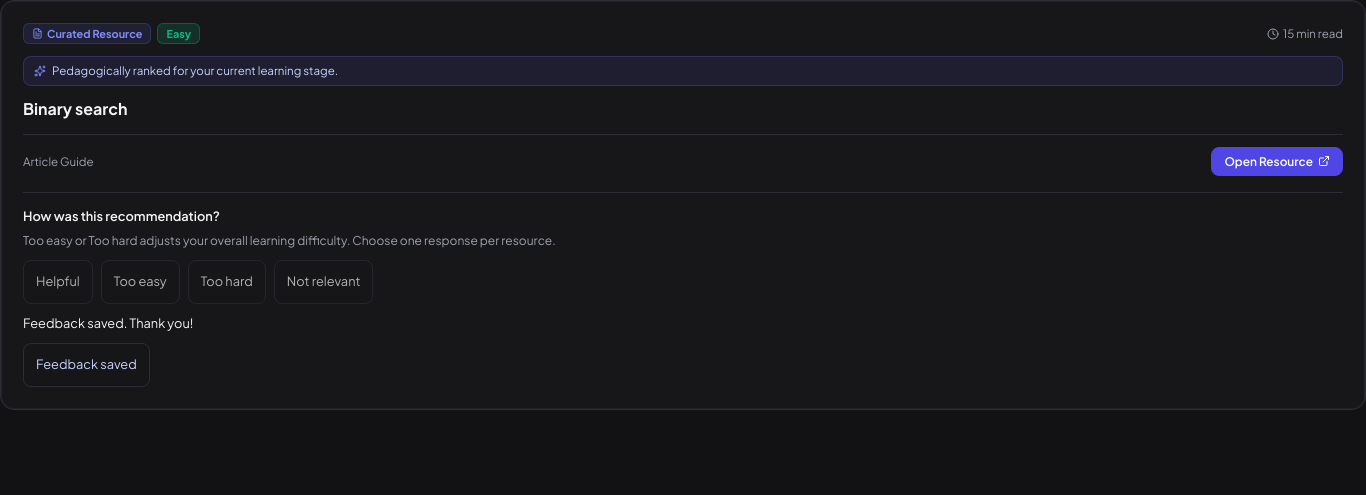
Scenario: Thanks tooltip › opens on hover, remains hoverable, and opens on tap without submitting feedback
Hover over the element showing "Feedback saved" at (86, 365), box [23,343,150,387]
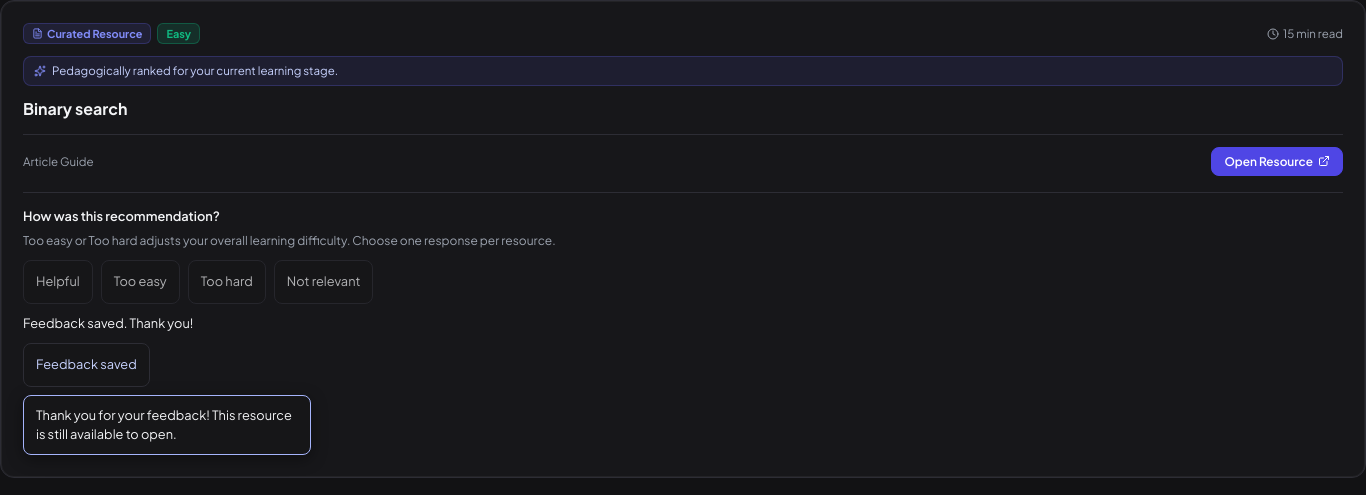
Hover over the tooltip at (167, 425), box [23,395,311,456]
expect the tooltip is shown: met, box [23,395,311,456]
Move the pointer off the element that starts with "Feedback saved", box [23,343,311,456]
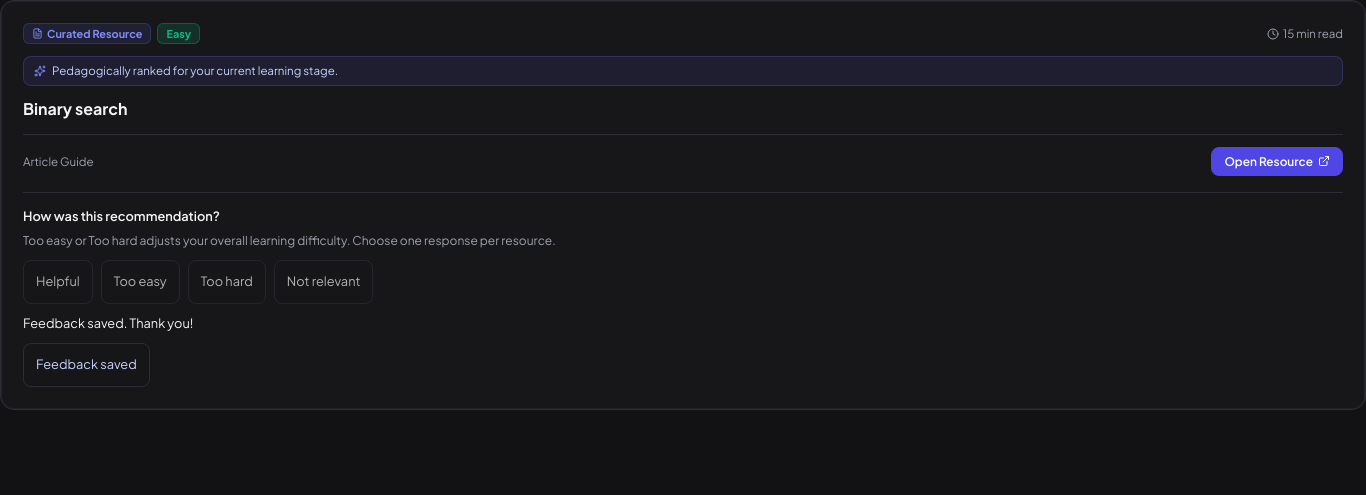
expect the tooltip "Thank you for your feedback! This resource is still available to open." is gone: met
Click the button "Feedback saved" at (86, 365), box [23,343,150,387]
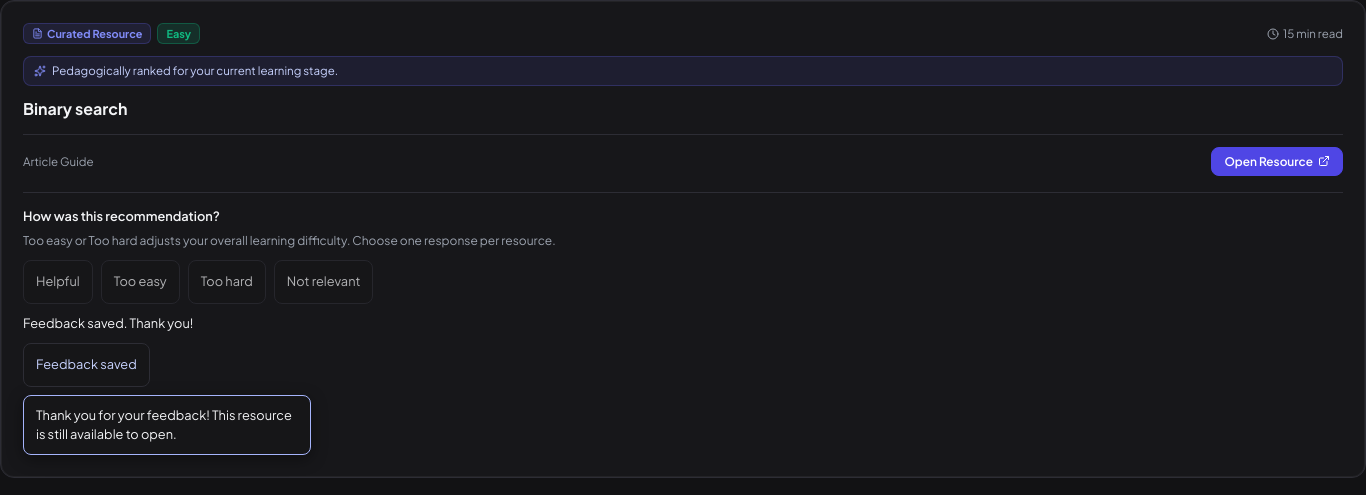
expect the tooltip is shown: met, box [23,395,311,456]
